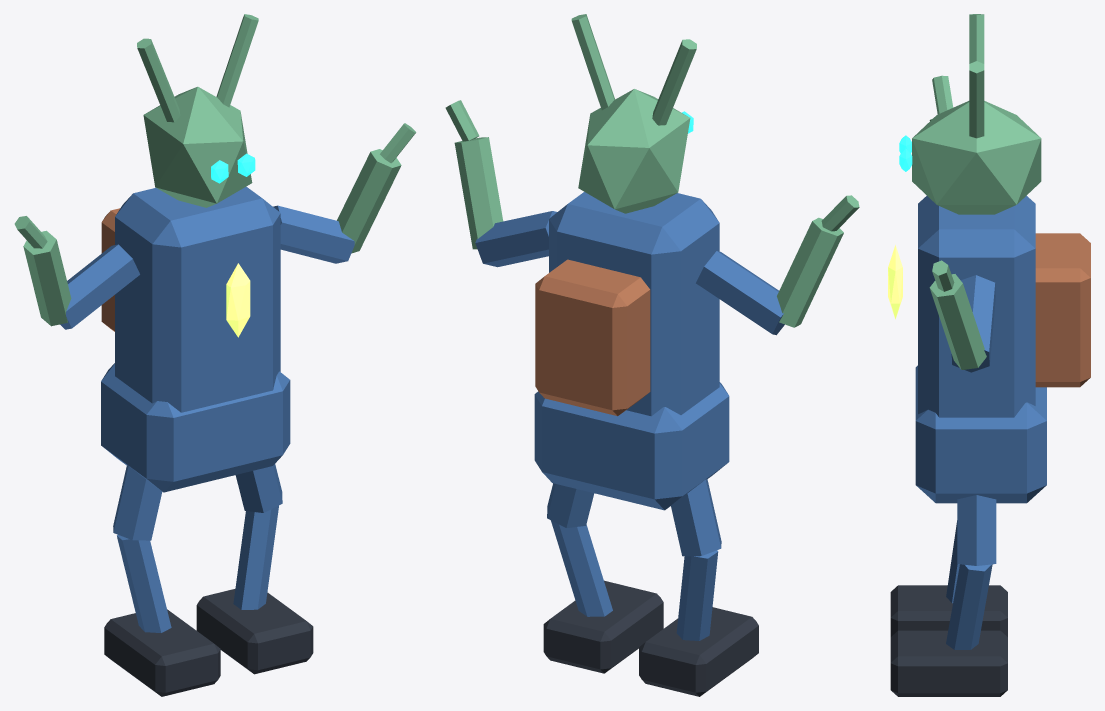
Rendered from npcs_020_seed11.glb.
3 renders of one model, left to right at view 1: azimuth 30°, elevation 25°; view 2: azimuth 150°, elevation 25°; view 3: azimuth 270°, elevation 25°, orthographic. The views are drawn at different scales.
Parts seen in each view (by area): view 1: npcs_020_seed11; view 2: npcs_020_seed11; view 3: npcs_020_seed11.
Part boxes in pixels (x1,y1,x2,y2): npcs_020_seed11: [14, 14, 416, 696]; npcs_020_seed11: [445, 14, 859, 696]; npcs_020_seed11: [888, 14, 1090, 696].
Size of the model in its own units: 1.52 by 2.26 by 0.6647.
